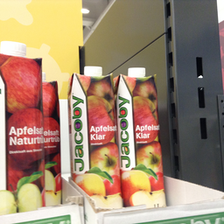juice: (67, 66, 123, 210), (1, 42, 45, 216), (117, 67, 167, 207)
